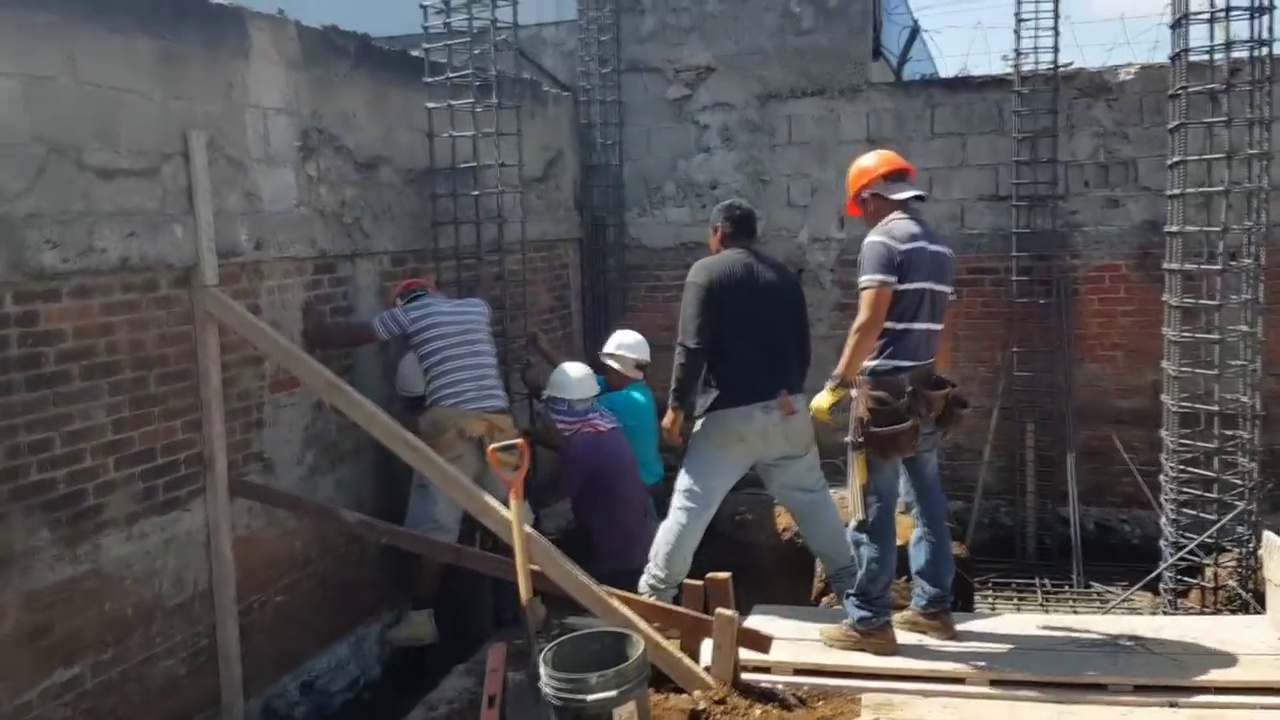helmet: (841, 145, 918, 217), (542, 362, 597, 414), (598, 333, 653, 379), (393, 350, 430, 399)
helmet-off: (710, 205, 766, 261)
helmet-on: (840, 141, 925, 225), (543, 355, 619, 437), (385, 344, 438, 424), (596, 334, 655, 396), (384, 278, 446, 311)
person: (644, 194, 858, 624), (810, 145, 964, 656), (360, 274, 510, 656), (522, 358, 662, 581), (597, 334, 670, 488)
